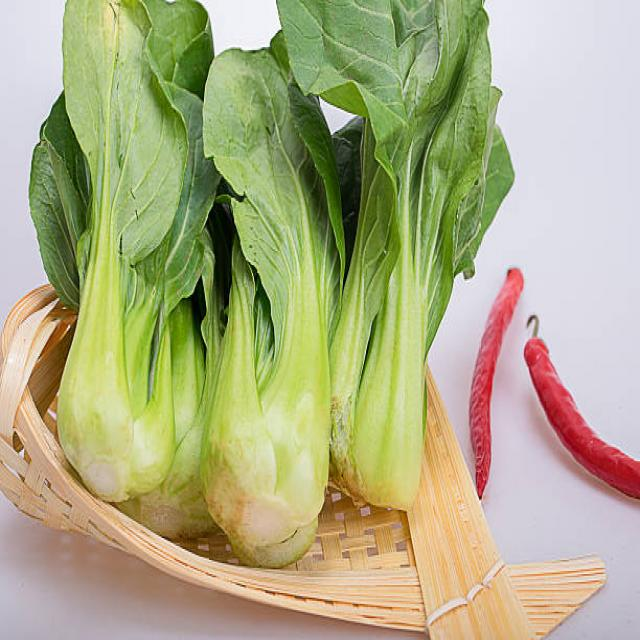Bok Choy: (62, 7, 182, 466), (209, 76, 319, 562), (345, 3, 444, 487)
